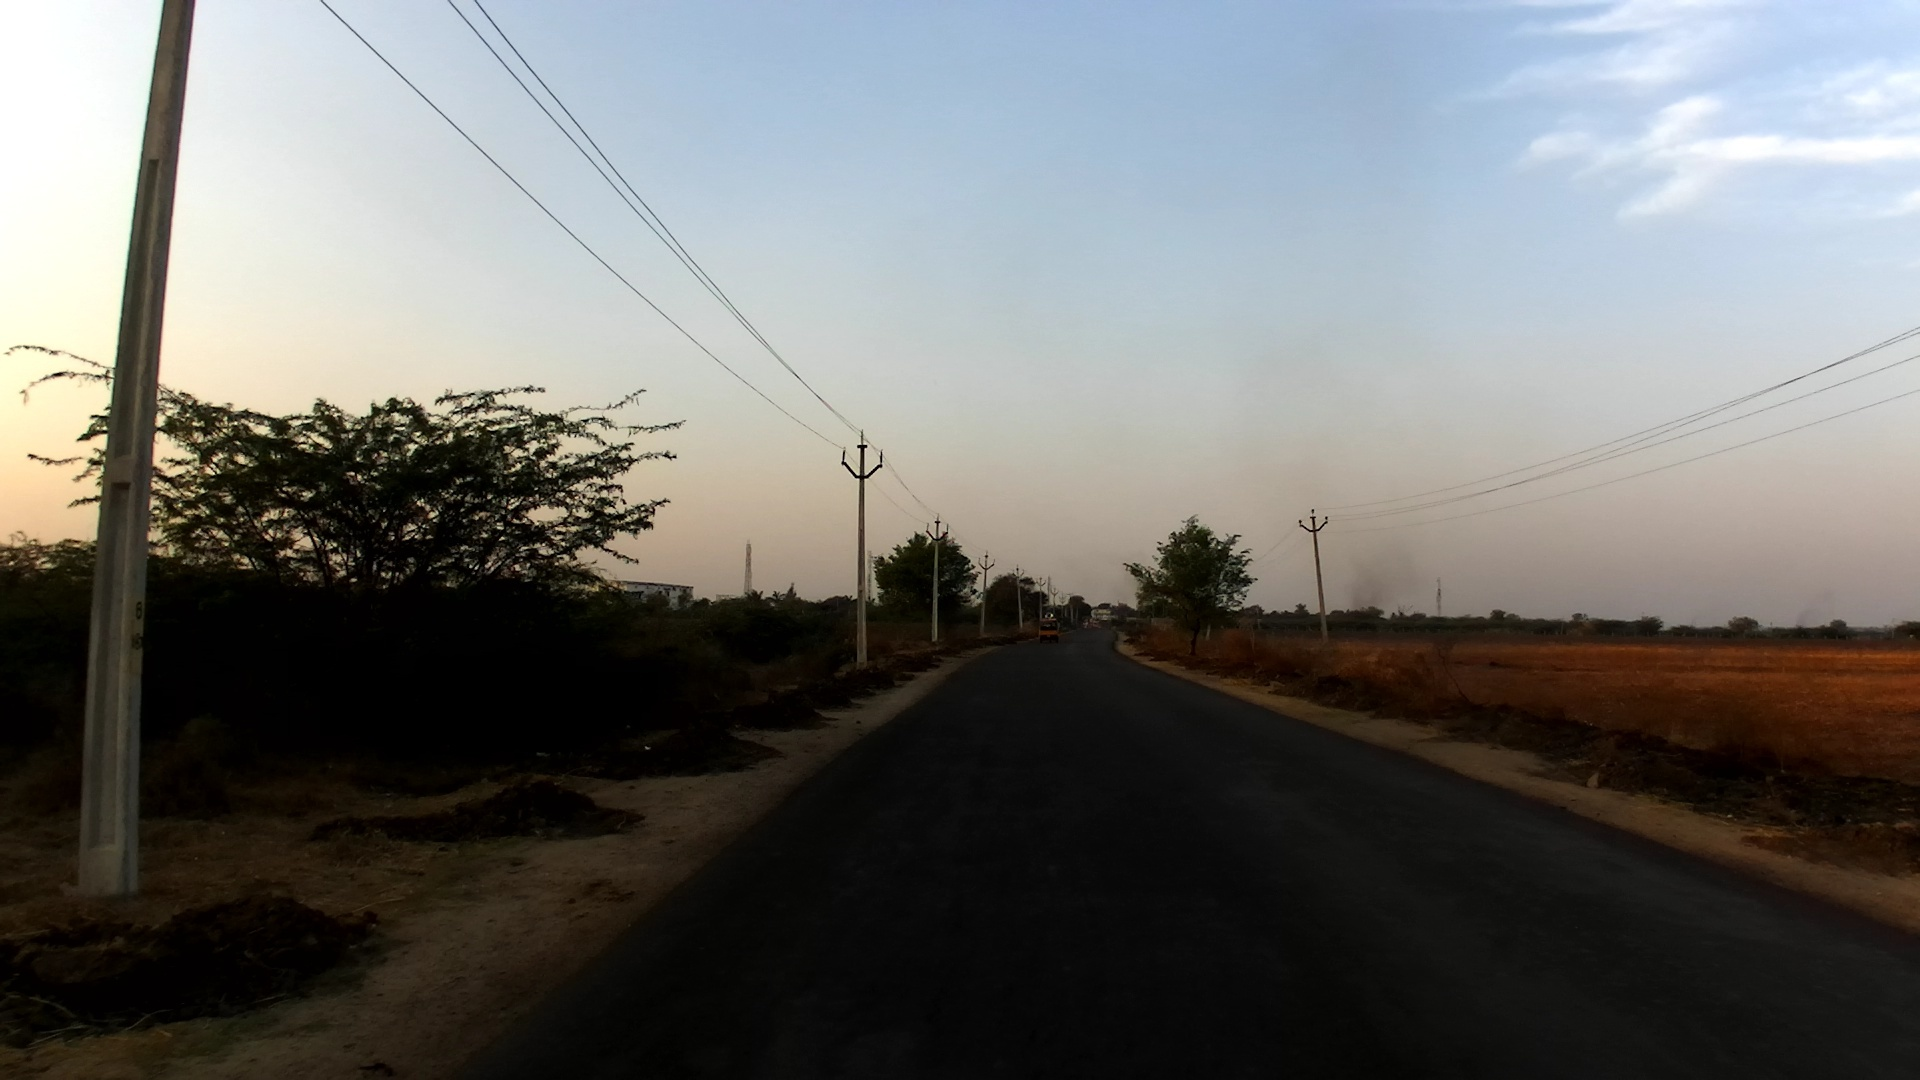car: (1036, 613, 1064, 644)
